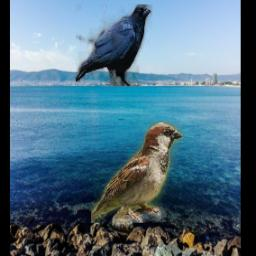Crow: (75, 4, 151, 86)
Sparrow: (91, 121, 183, 223)
